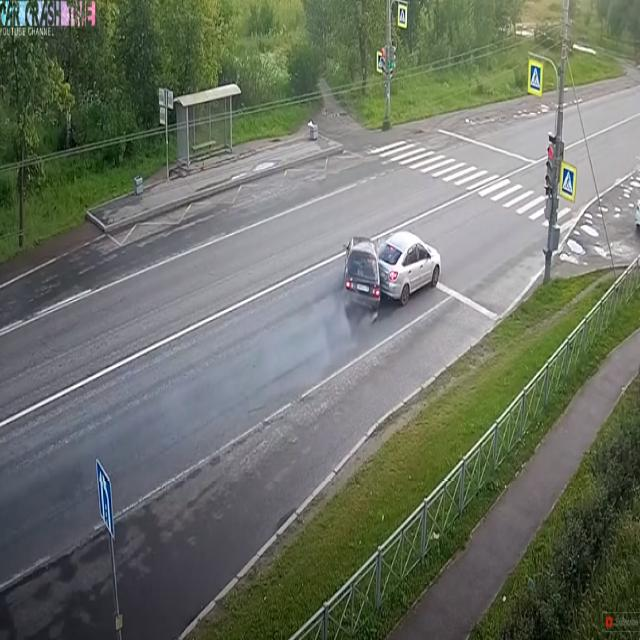accident: (326, 206, 458, 322)
